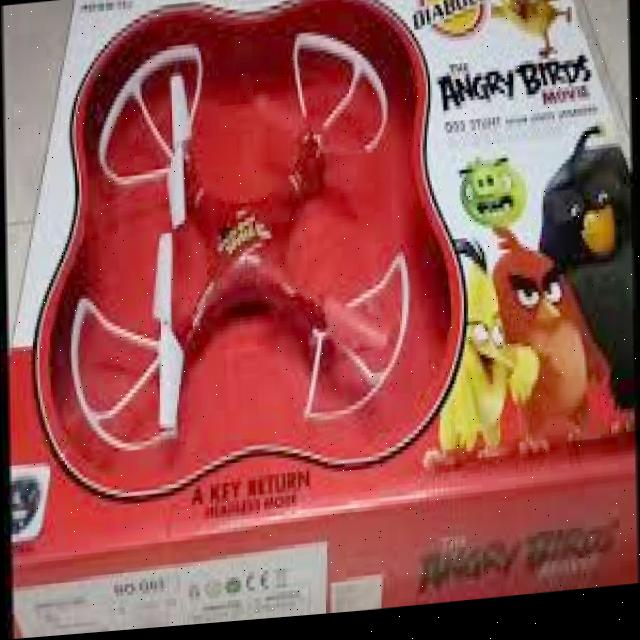drone: (60, 15, 429, 471)
